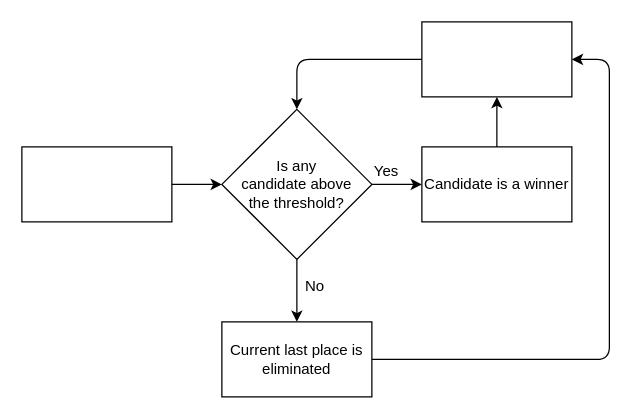
The diagram is 641 pixels wide and 419 high, and some of its shapes have lost their labels. The box of each missing label's shape, as (x1, y1, x2, y2) in pixels:
Lists of ranked candidates: (21, 146, 172, 222)
Unused votes are given to the next choice: (421, 21, 572, 97)
